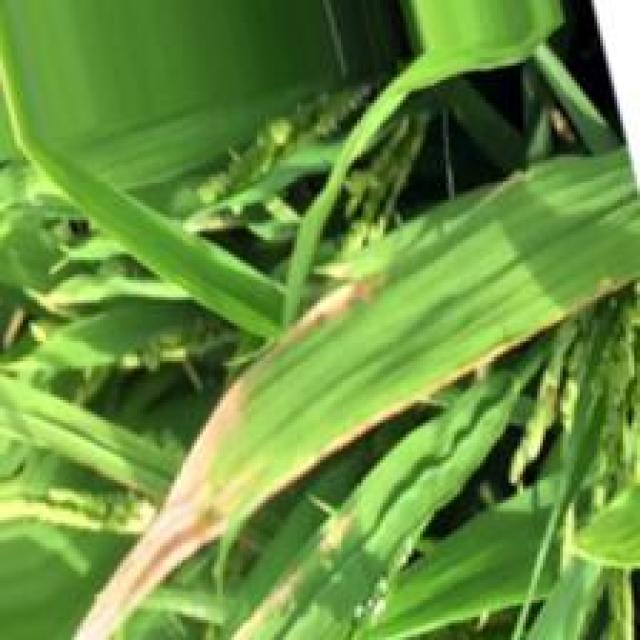Unhealthy: (72, 378, 248, 640), (273, 401, 406, 490), (20, 271, 194, 315), (287, 277, 379, 340), (416, 341, 511, 398), (232, 565, 303, 640), (0, 500, 104, 531), (282, 601, 337, 640), (511, 313, 568, 344), (115, 499, 158, 535), (571, 280, 619, 312), (318, 515, 353, 556), (355, 580, 388, 619), (4, 309, 25, 350), (48, 489, 93, 507), (315, 502, 339, 533), (328, 265, 354, 279), (31, 323, 46, 342), (405, 395, 421, 407)
